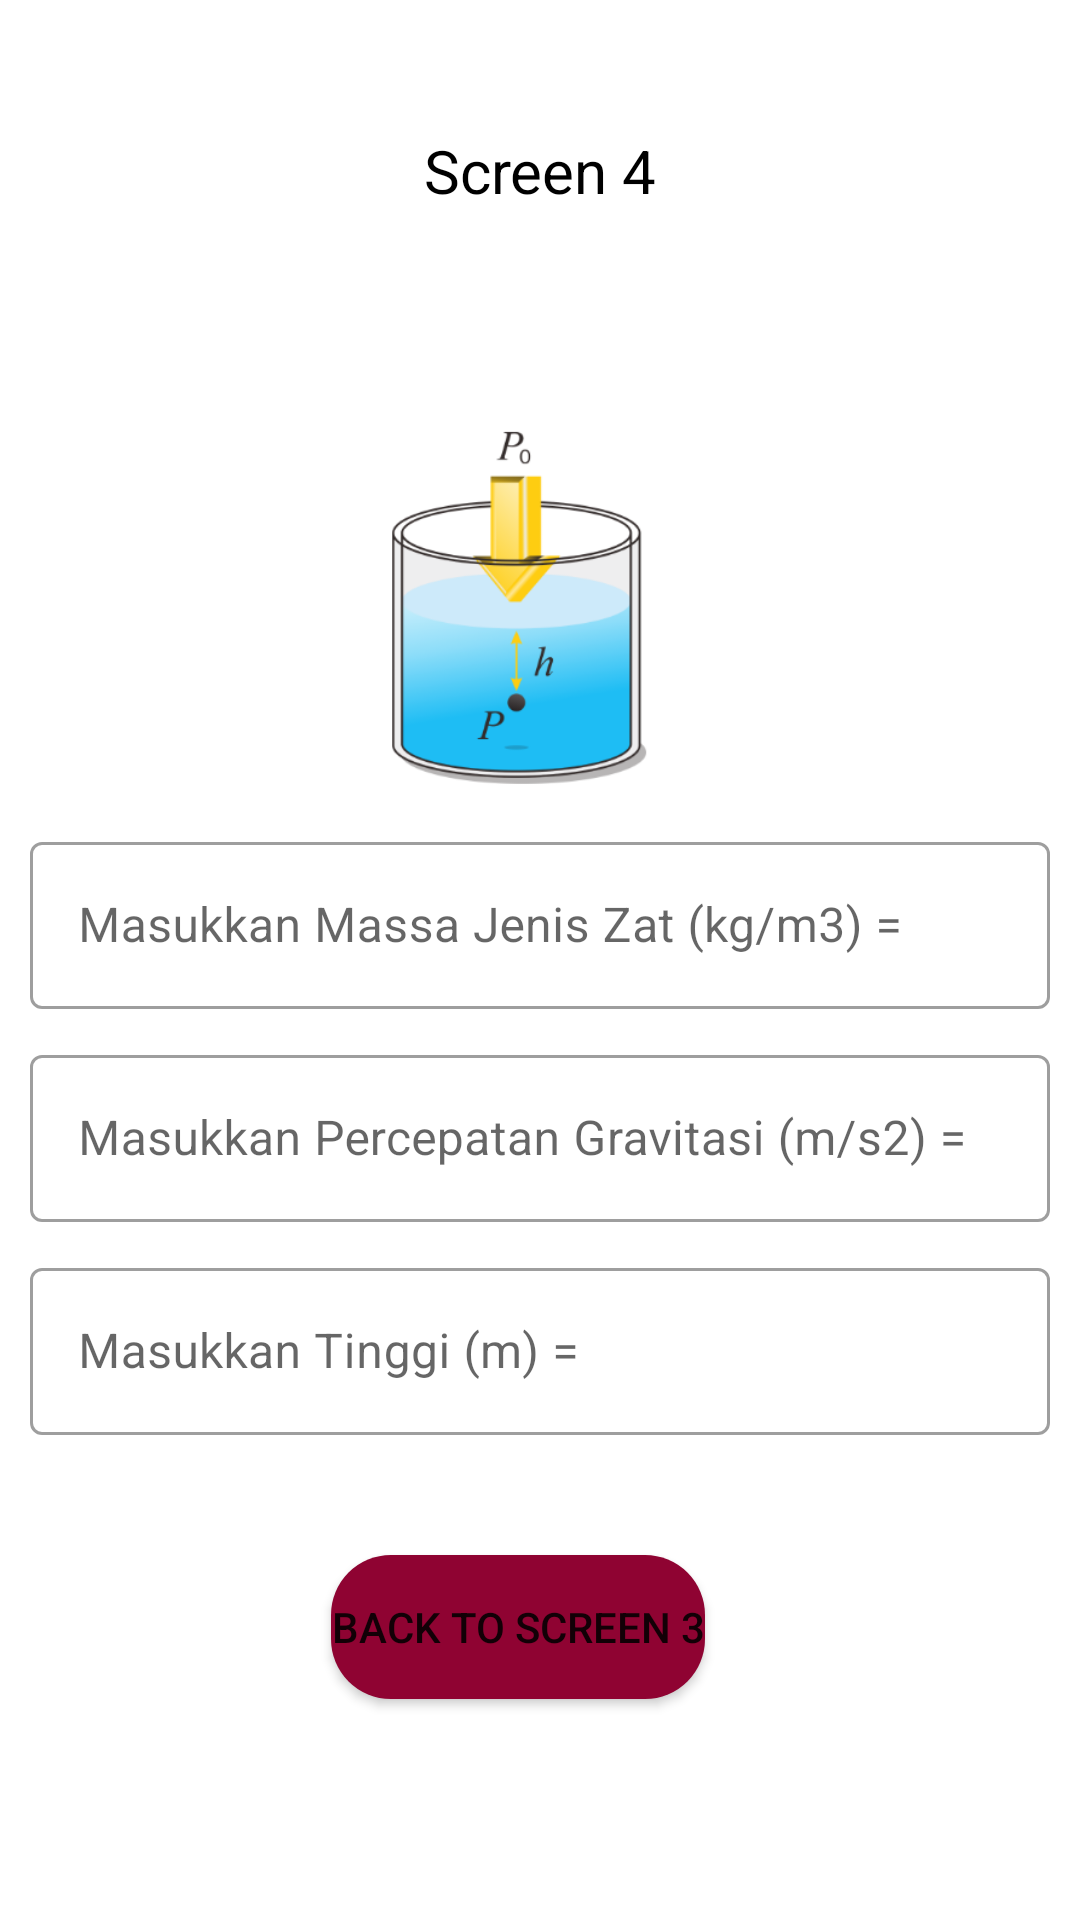

Locate icon controls on the screen. Image size 1080x1920, boxes as (x1, y1, x2, y2).
tekanan: (392, 432, 646, 784)
